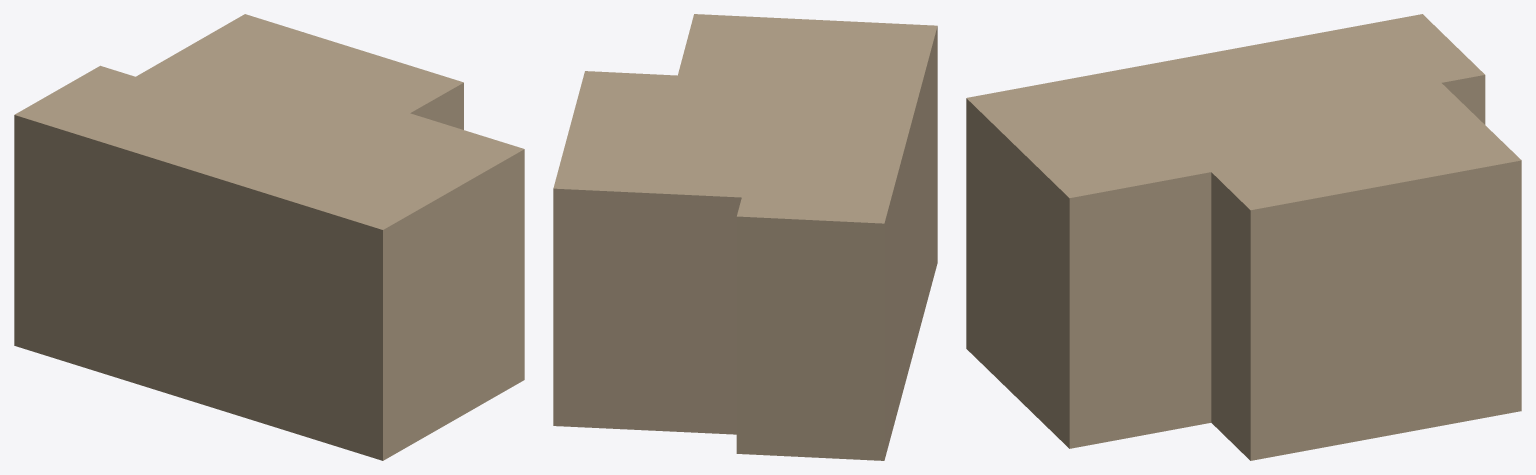
The model's file is bld_107625463.dae.
3 views of the same model, side by side, from view 1: azimuth 30°, elevation 25°; view 2: azimuth 150°, elevation 25°; view 3: azimuth 270°, elevation 25° (orthographic). The views are drawn at different scales.
Visible parts, largest first — view 1: bld_107625463; view 2: bld_107625463; view 3: bld_107625463.
Boxes of the visible parts, x1=… form: bld_107625463: x1=14, y1=14, x2=524, y2=460; bld_107625463: x1=553, y1=14, x2=937, y2=460; bld_107625463: x1=966, y1=14, x2=1521, y2=460.
Size of the model in its own units: 13.44 by 16.07 by 8.
